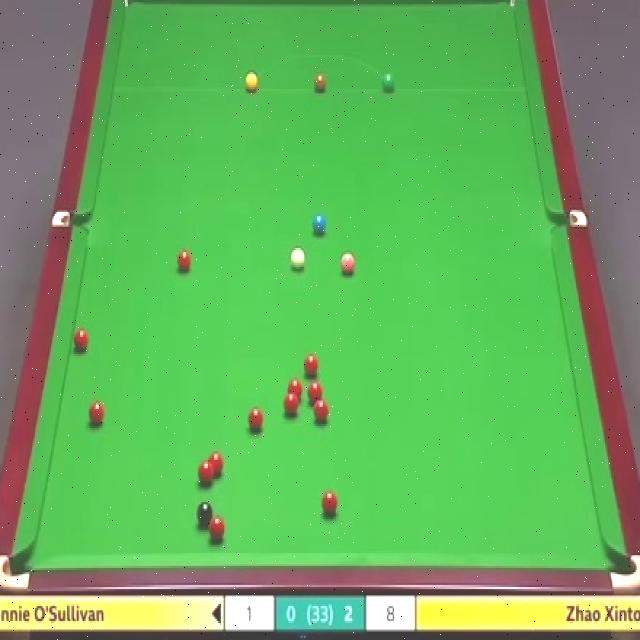black-ball: (195, 498, 215, 532)
blue-ball: (312, 212, 329, 238)
brown-ball: (314, 73, 328, 95)
green-ball: (380, 72, 394, 95)
pink-ball: (338, 248, 358, 277)
red-ball: (208, 517, 227, 546), (87, 399, 105, 428), (196, 461, 216, 487), (302, 352, 321, 379), (72, 326, 90, 354), (282, 392, 300, 418), (321, 491, 338, 517), (176, 248, 193, 273), (248, 409, 265, 434), (286, 378, 304, 400), (314, 398, 329, 423), (209, 451, 225, 474), (307, 382, 323, 402)
white-ball: (290, 245, 307, 272)
yellow-ball: (245, 72, 259, 94)
